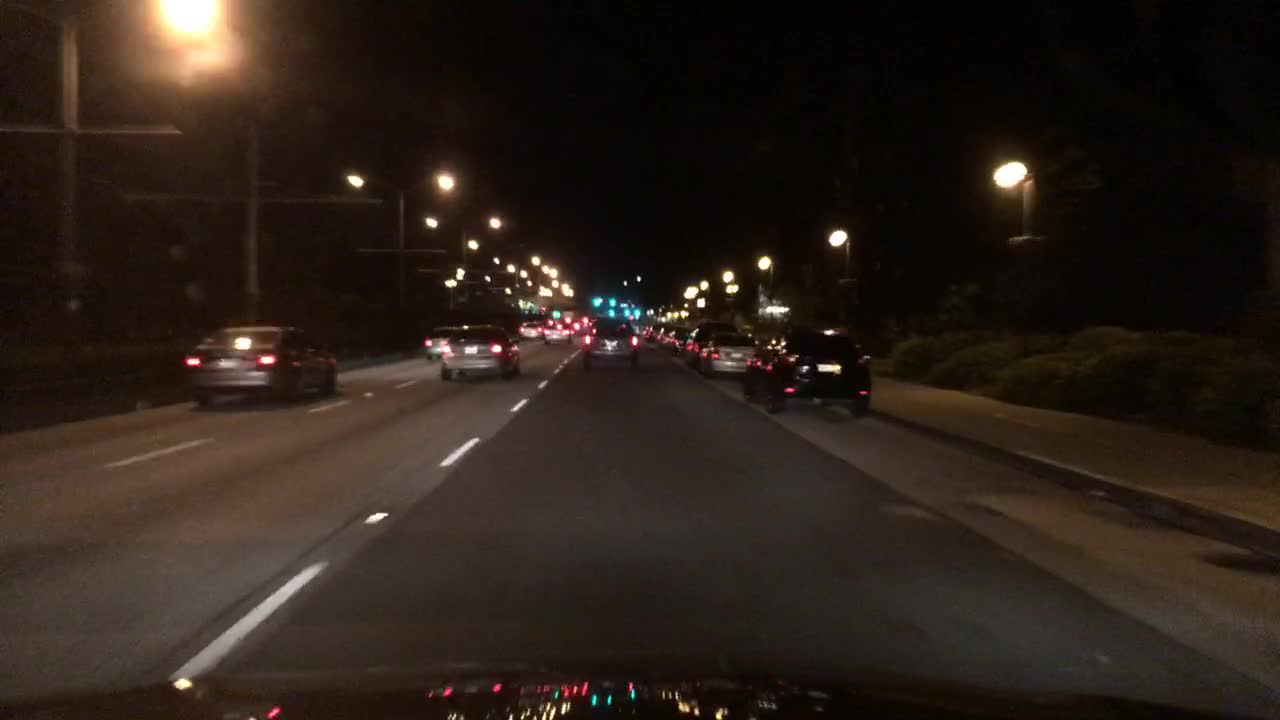car: (179, 321, 336, 408), (739, 325, 871, 417), (437, 321, 520, 383), (578, 314, 641, 374), (696, 328, 761, 379), (677, 320, 738, 369), (422, 324, 462, 360), (662, 324, 689, 348), (653, 321, 678, 345), (516, 319, 545, 338), (643, 321, 665, 341), (568, 321, 590, 334), (546, 317, 564, 328), (579, 313, 594, 325), (560, 310, 573, 323), (630, 321, 642, 335), (638, 322, 650, 336)
